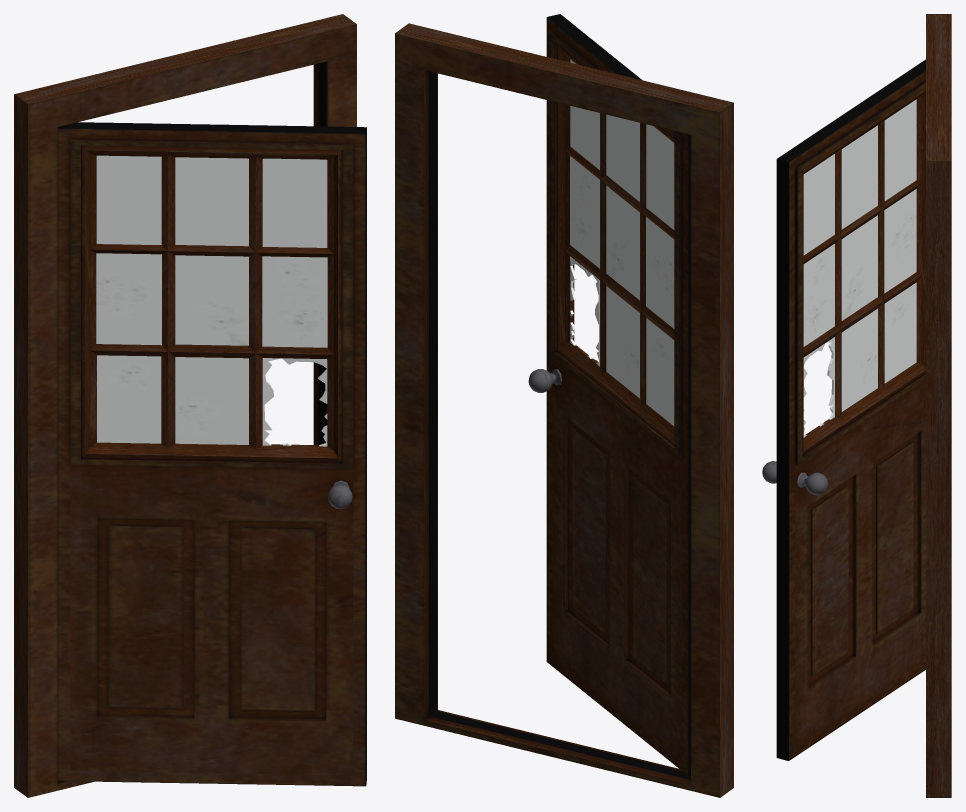
Rendered from Door.fbx.
3 views of the same model, side by side, from view 1: azimuth 30°, elevation 25°; view 2: azimuth 150°, elevation 25°; view 3: azimuth 270°, elevation 25° (orthographic). The views are drawn at different scales.
Visible parts, largest first — view 1: door, frame; view 2: door, frame; view 3: door, frame.
Part boxes in pixels (box(x1,y1,x2,y2)): door: box(57, 122, 366, 786); frame: box(14, 14, 356, 797); door: box(528, 14, 690, 775); frame: box(395, 23, 733, 797); door: box(762, 59, 925, 760); frame: box(926, 14, 951, 797).
Size of the model in its own units: 12000 by 24168 by 6512.
3 materials, 3 textured.
